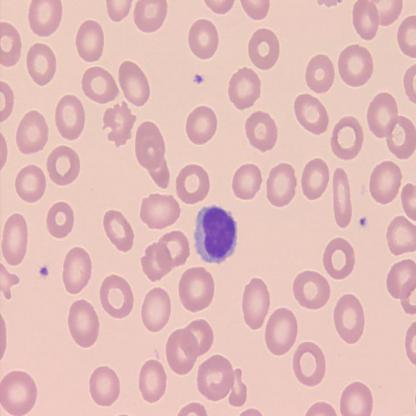Lymphocyte: (193, 204, 238, 264)
